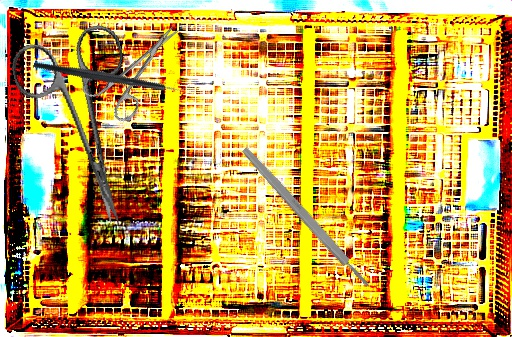Chopper: (32, 9, 192, 141)
Iris Scissors: (6, 20, 165, 239), (78, 7, 200, 129)
Scalpel Handle: (240, 145, 372, 290)
